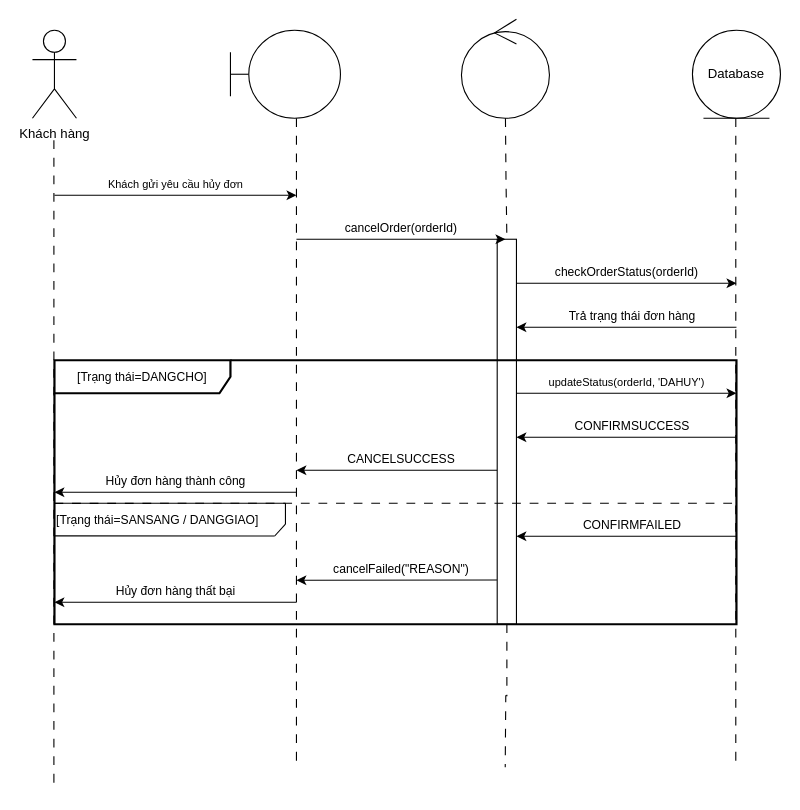
Some shapes in this 800 by 810 pixel diagram are drawn without their labels. The shapes that lost their labels are listed below. From the top down, each one's centre as x and y in pixels, then its label:
the point at 284,73: OrderUI
the point at 504,68: Order Controller
